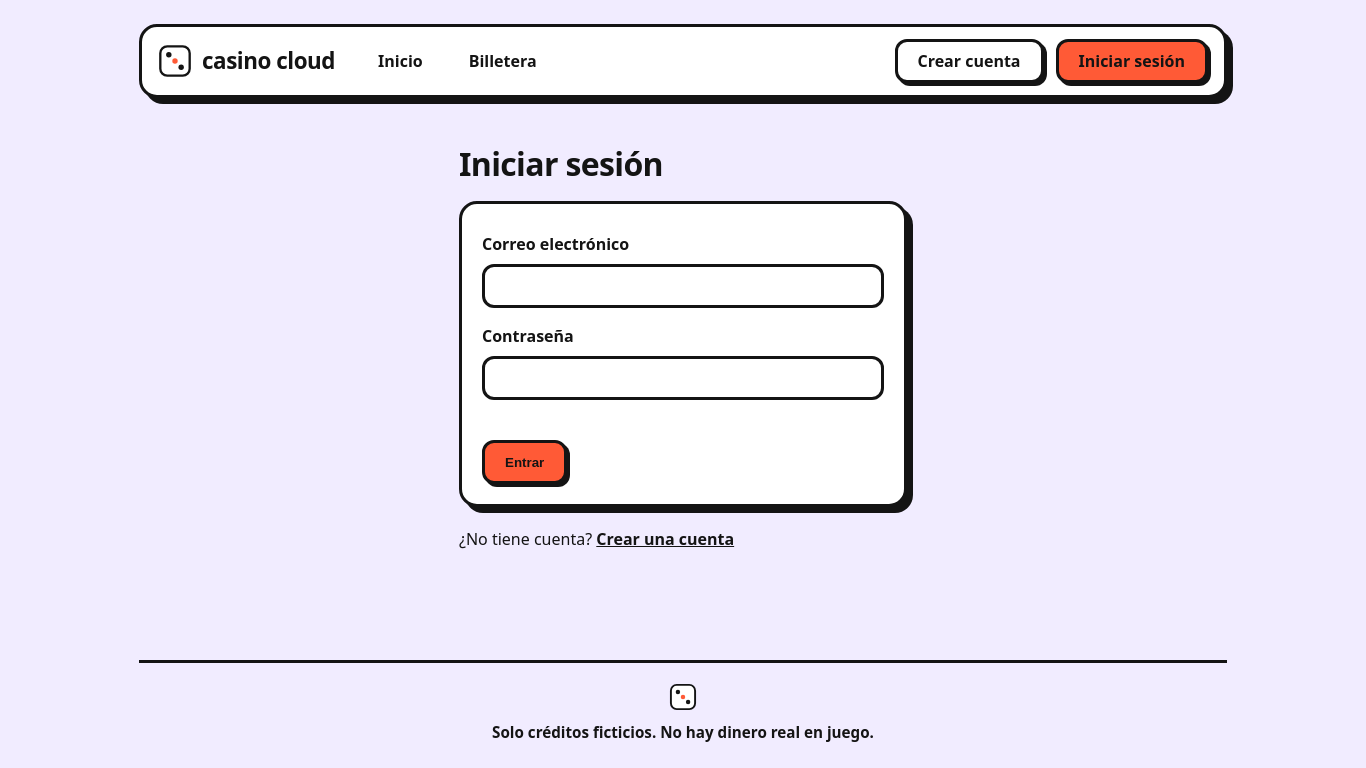
it: LoginPage › shows invalid credentials for a wrong password and stays logged out
Type "ana@casino.test" into the field labelled "Correo electrónico" at coordinates (683, 286), box [482,264,884,308]
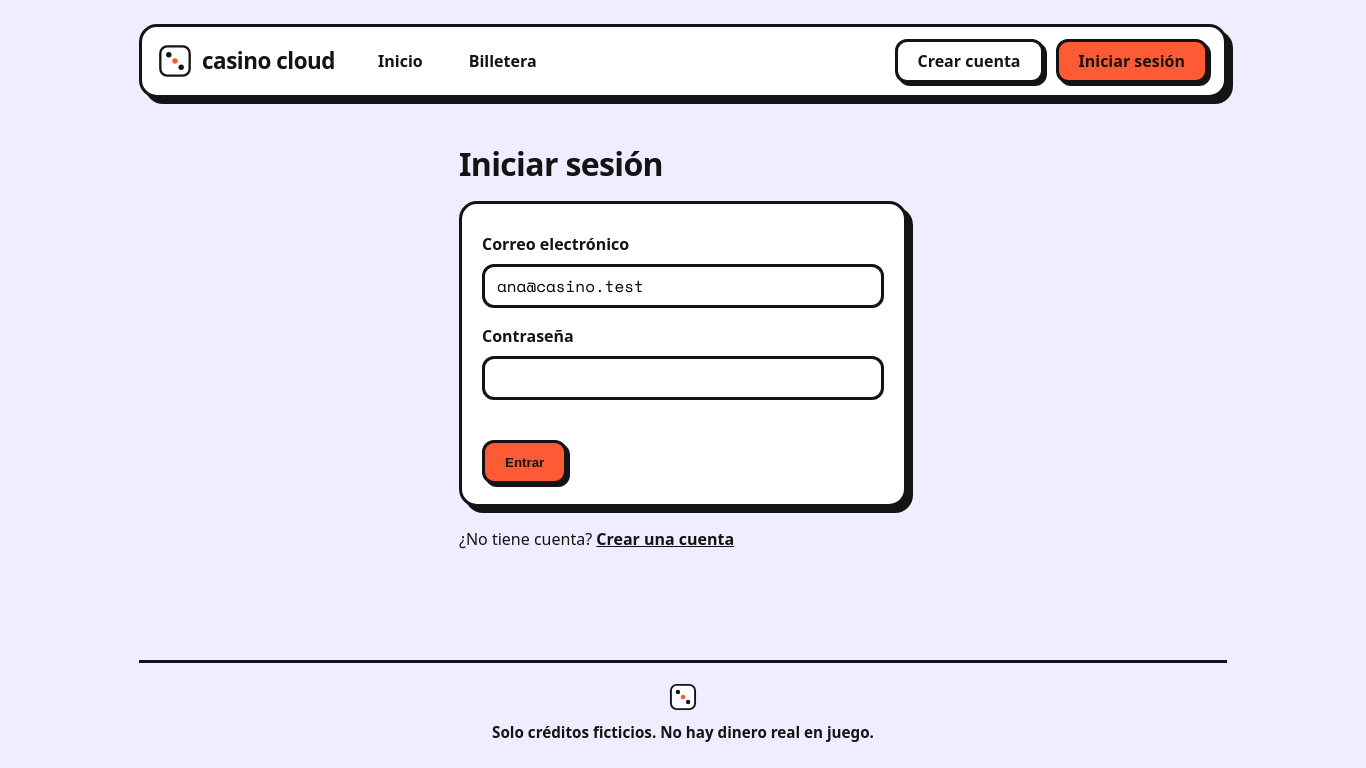
Type "wrong-password" into the password field labelled "Contraseña" at coordinates (683, 378), box [482,356,884,400]
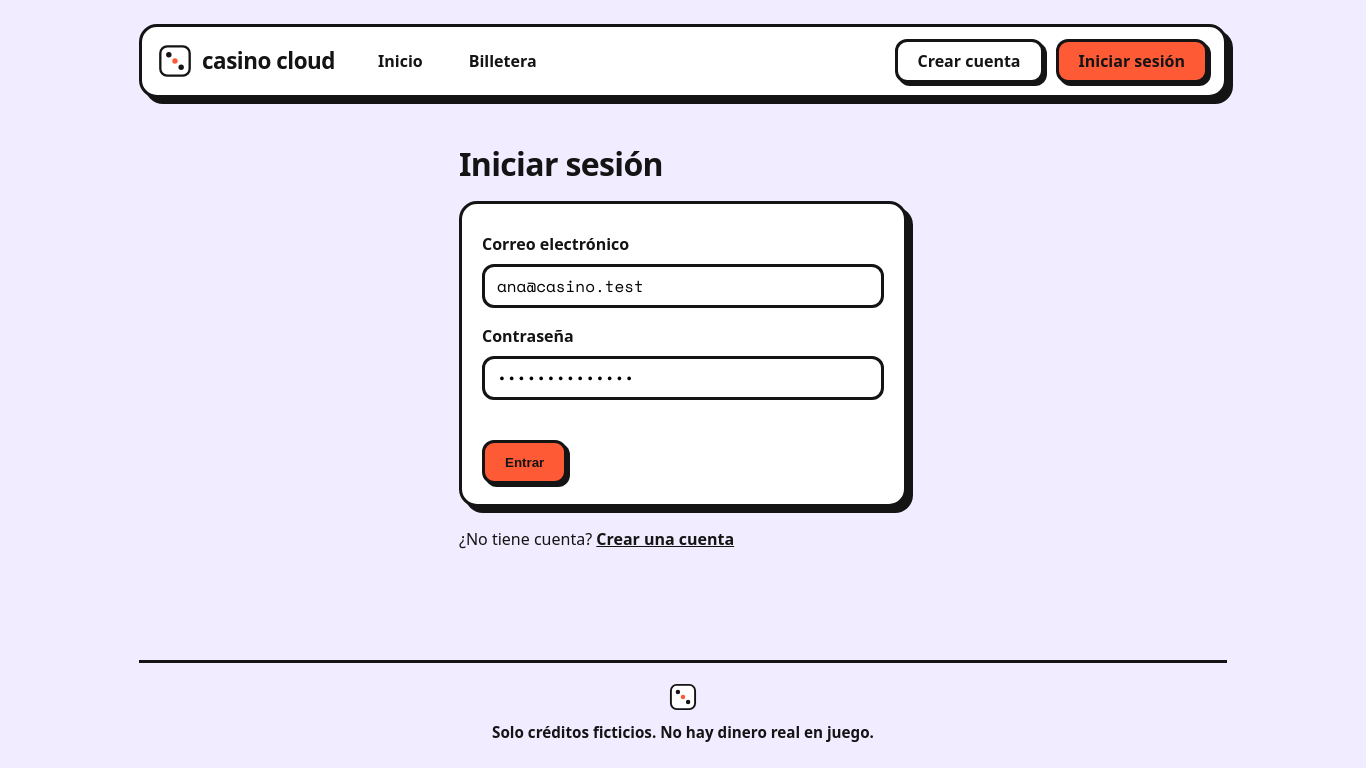
Click the button "Entrar" at coordinates (525, 462), box [482,440,567,484]
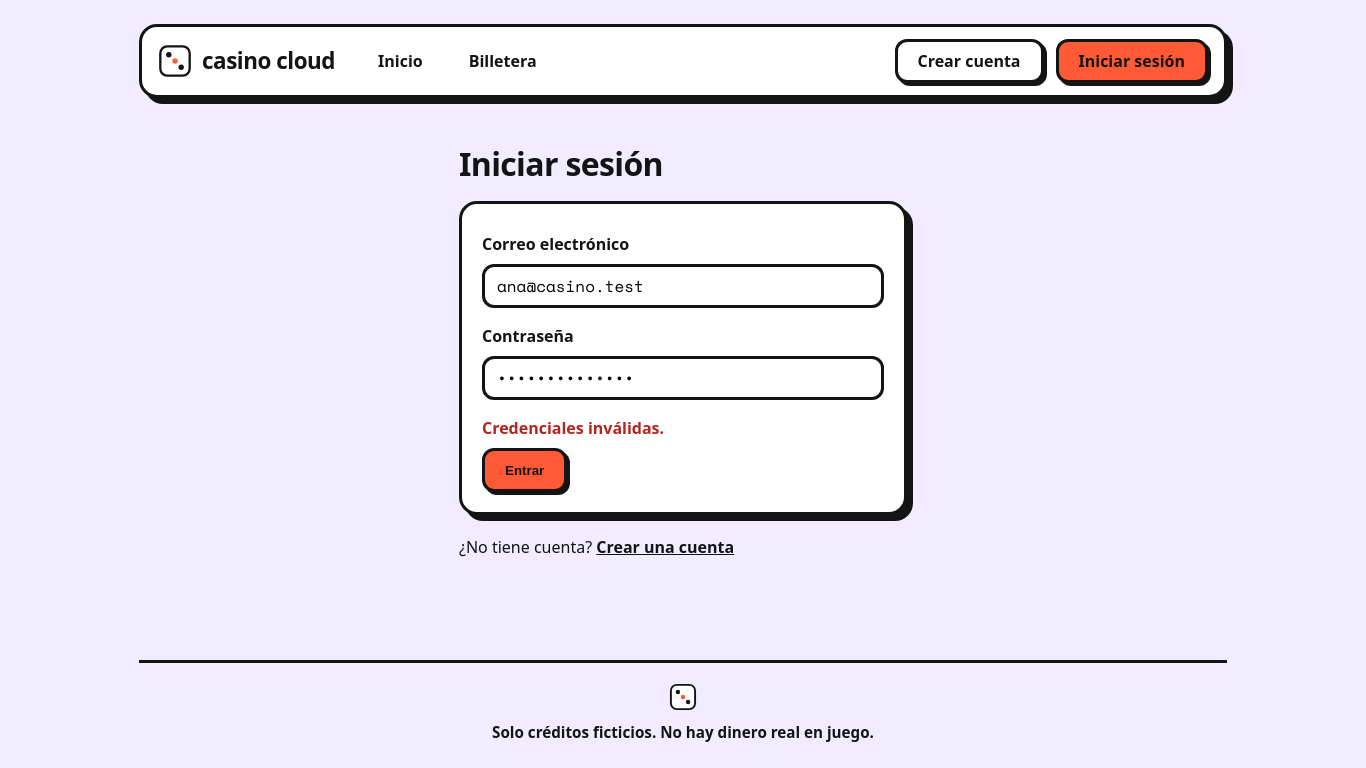
Result: the text "Credenciales inválidas." is shown at [482,417,664,439]
